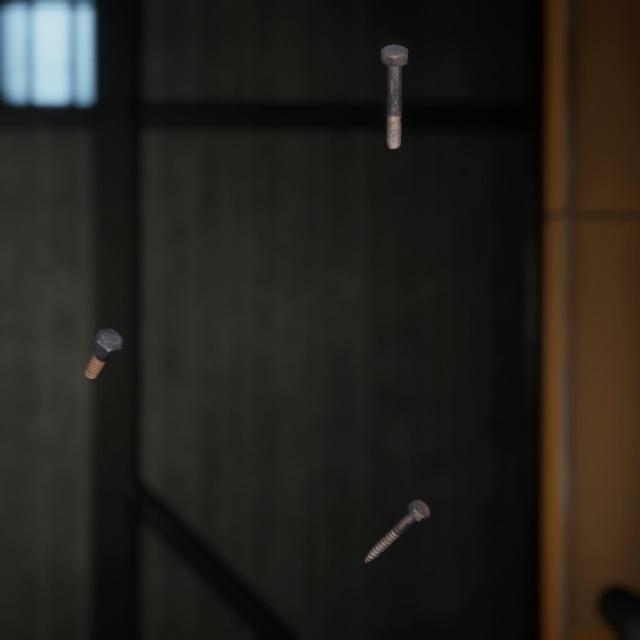bolt: (360, 473, 434, 546), (376, 29, 413, 143), (79, 305, 127, 365)
